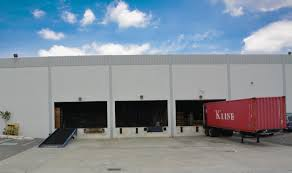Yard Ramp: (38, 128, 76, 147)
